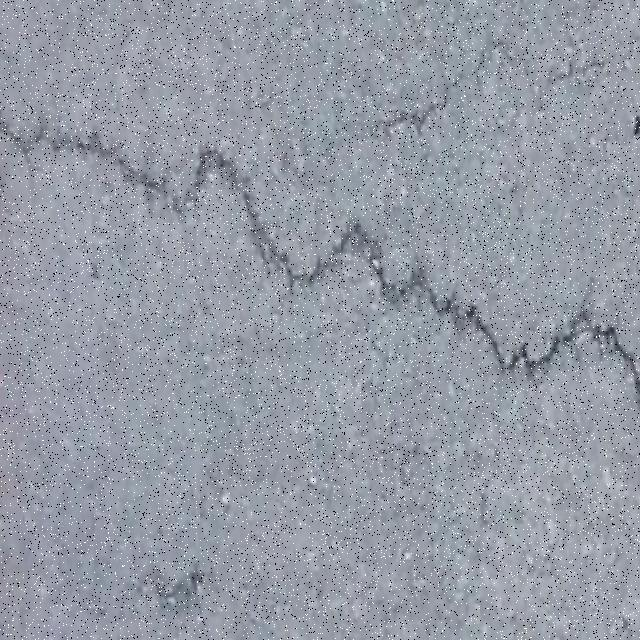moderate crack: (518, 300, 633, 384), (138, 556, 205, 612)
severe crack: (17, 120, 334, 287), (354, 230, 502, 363)
